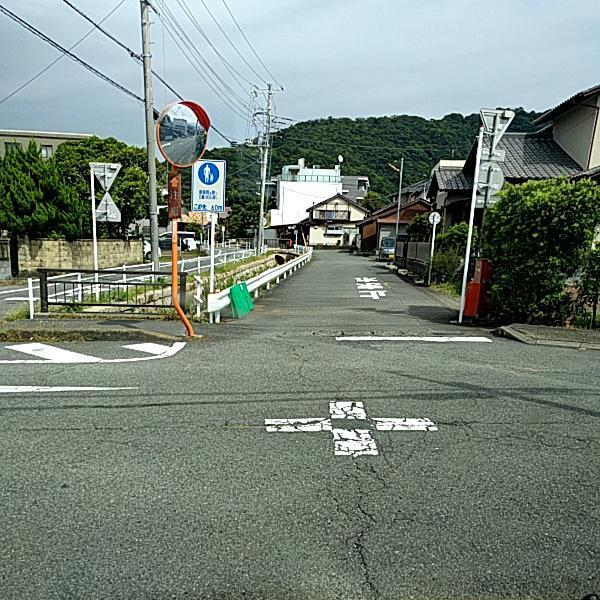D20: (318, 461, 406, 590), (438, 405, 599, 461)
D44: (257, 388, 445, 458)
